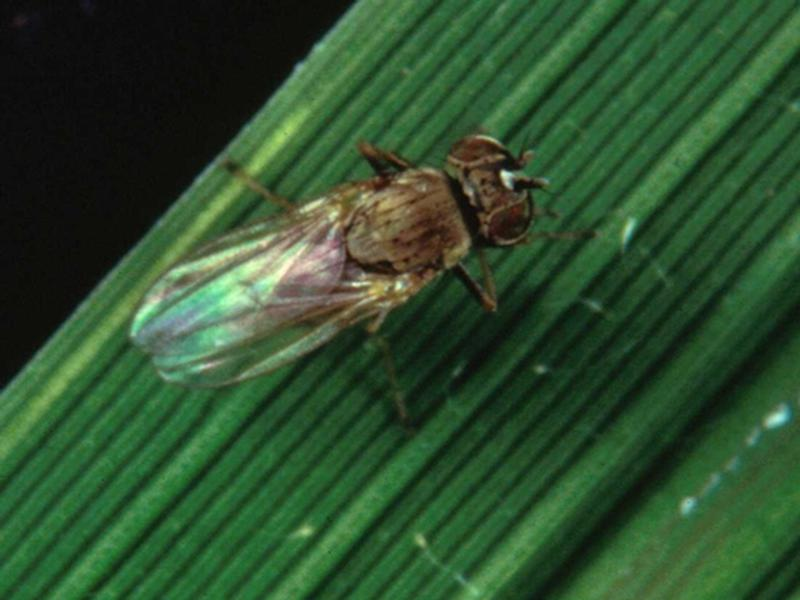Whorl_maggot: (123, 122, 558, 394)
